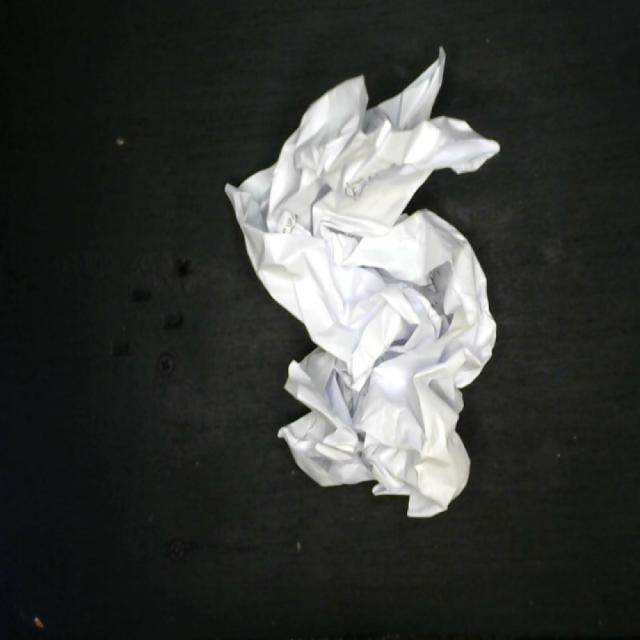biodegradable: (222, 36, 504, 526)
